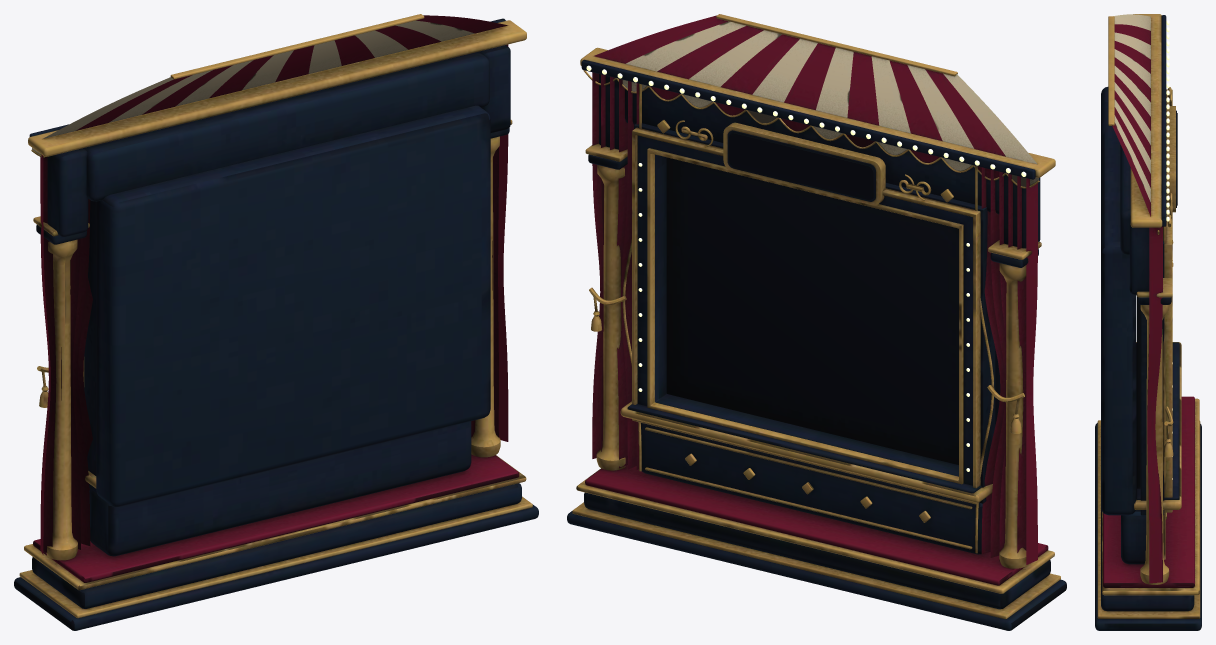
3 views of the same model, side by side, from view 1: azimuth 30°, elevation 25°; view 2: azimuth 150°, elevation 25°; view 3: azimuth 270°, elevation 25° (orthographic). The views are drawn at different scales.
Visible parts, largest first — view 1: Midnight_enamel, Crimson_velvet, Aged_champagne_brass, Warm_ivory_canvas; view 2: Uniform_dark_display_and_shadow, Midnight_enamel, Aged_champagne_brass, Crimson_velvet, Warm_ivory_canvas, Warm_marquee_glow; view 3: Midnight_enamel, Aged_champagne_brass, Crimson_velvet, Warm_ivory_canvas, Uniform_dark_display_and_shadow, Warm_marquee_glow.
Part boxes in pixels (bbox=[...]): Midnight_enamel: bbox=[14, 18, 538, 630]; Crimson_velvet: bbox=[33, 15, 519, 582]; Aged_champagne_brass: bbox=[19, 14, 532, 618]; Warm_ivory_canvas: bbox=[32, 20, 474, 154]; Uniform_dark_display_and_shadow: bbox=[666, 133, 958, 464]; Midnight_enamel: bbox=[567, 59, 1066, 630]; Aged_champagne_brass: bbox=[572, 14, 1060, 619]; Crimson_velvet: bbox=[585, 15, 1048, 585]; Warm_ivory_canvas: bbox=[618, 21, 1038, 186]; Warm_marquee_glow: bbox=[586, 65, 1026, 471]; Midnight_enamel: bbox=[1095, 15, 1201, 630]; Aged_champagne_brass: bbox=[1097, 14, 1200, 618]; Crimson_velvet: bbox=[1103, 24, 1194, 587]; Warm_ivory_canvas: bbox=[1113, 14, 1150, 202]; Uniform_dark_display_and_shadow: bbox=[1137, 113, 1177, 488]; Warm_marquee_glow: bbox=[1166, 20, 1172, 479].
Bounding box in the file's own units: 10.23 × 10.6 × 2.22.
6 materials, 5 textured.
